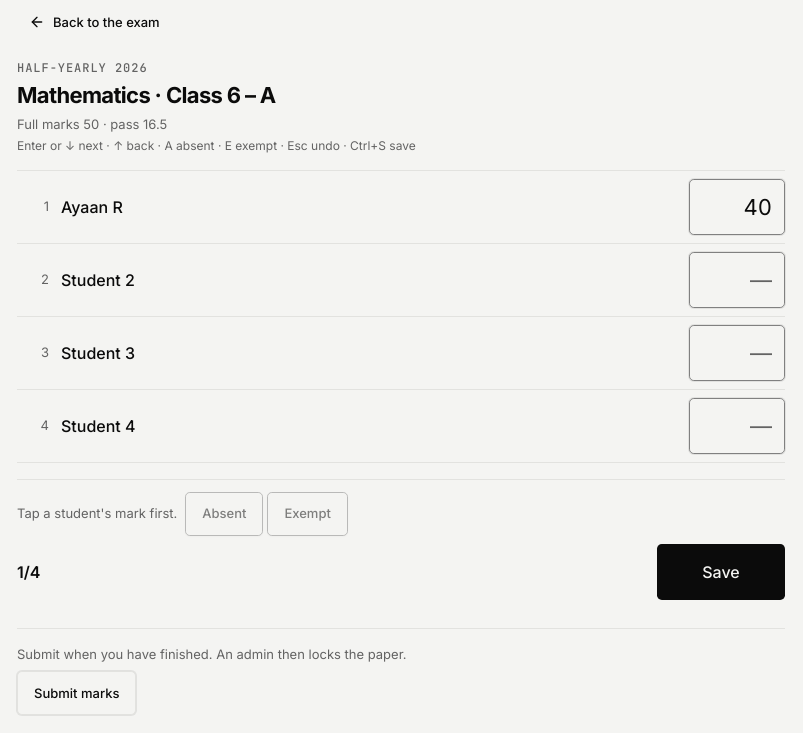
Test: MarksEntry › asks to save first before submitting
Type "30" into the field named "Student 2" at (737, 280), box [689, 252, 785, 308]
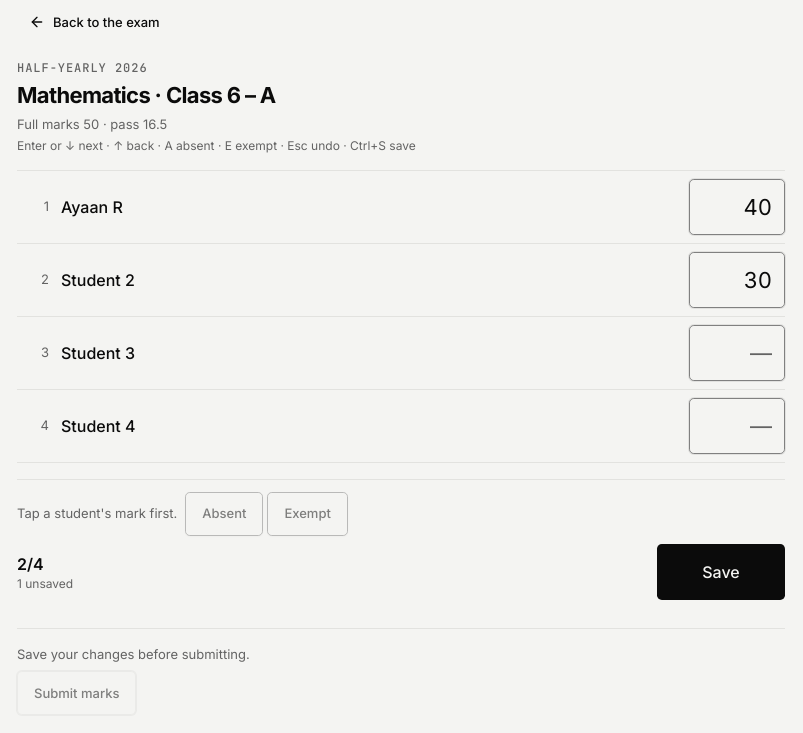
Expected: the text "Save your changes before submitting." is shown, [17, 646, 250, 662]
Expected: the button "Submit marks" is disabled, [17, 671, 136, 715]
